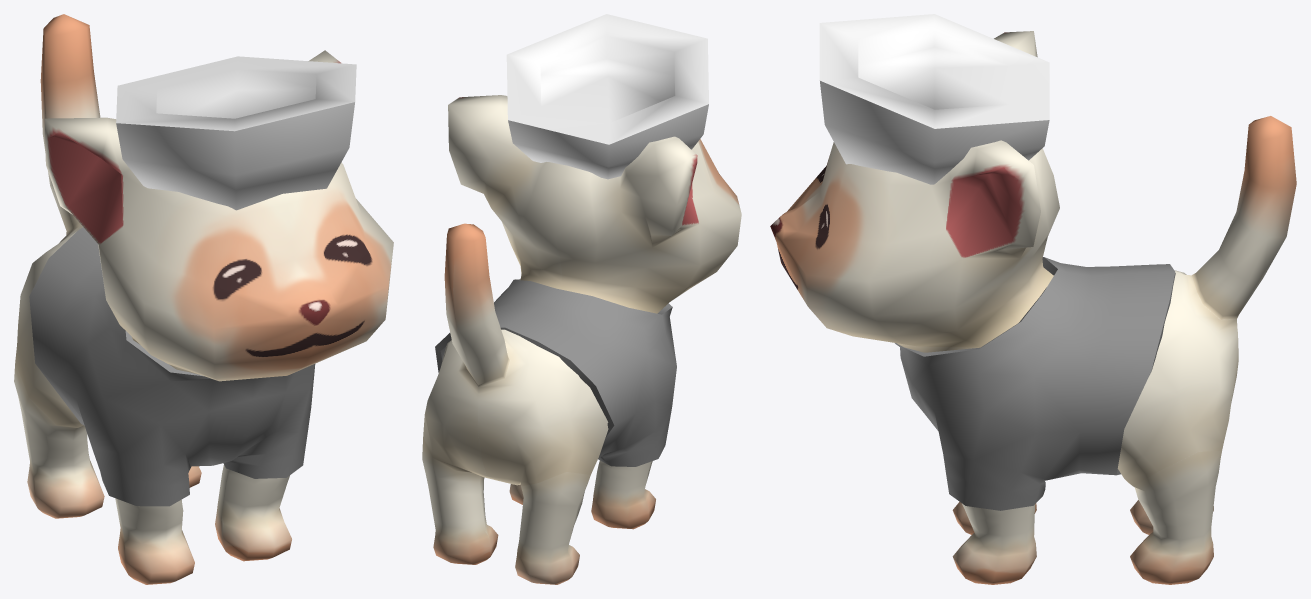
File: Healthy Cat02.fbx
3 renders of one model, left to right at view 1: azimuth 30°, elevation 25°; view 2: azimuth 150°, elevation 25°; view 3: azimuth 270°, elevation 25°, orthographic. The views are drawn at different scales.
Parts seen in each view (by area): view 1: Cat_Base001, tshirt001, Healthy_Cat_Hat; view 2: Cat_Base001, Healthy_Cat_Hat, tshirt001; view 3: Cat_Base001, tshirt001, Healthy_Cat_Hat.
Boxes of the visible parts, x1,y1,x2,y2 form: Cat_Base001: (14, 14, 393, 584); tshirt001: (29, 227, 315, 506); Healthy_Cat_Hat: (116, 56, 356, 210); Cat_Base001: (422, 95, 741, 584); Healthy_Cat_Hat: (506, 14, 708, 179); tshirt001: (435, 279, 676, 466); Cat_Base001: (770, 31, 1296, 584); tshirt001: (895, 257, 1175, 510); Healthy_Cat_Hat: (819, 14, 1049, 184).
Size of the model in its own units: 1.75 by 2.83 by 2.96.
3 materials, 1 textured.
